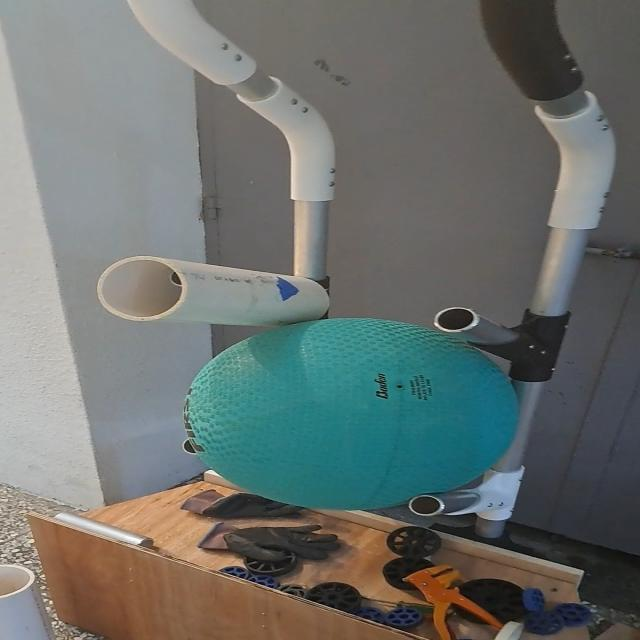ALGAE: (187, 317, 534, 512)
CORAL: (90, 252, 345, 332)
